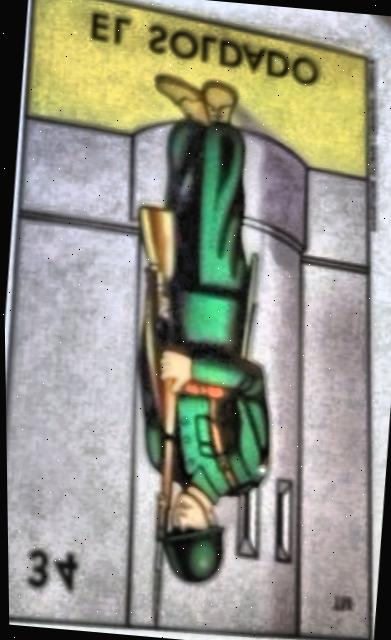El Soldado: (5, 0, 370, 640)
